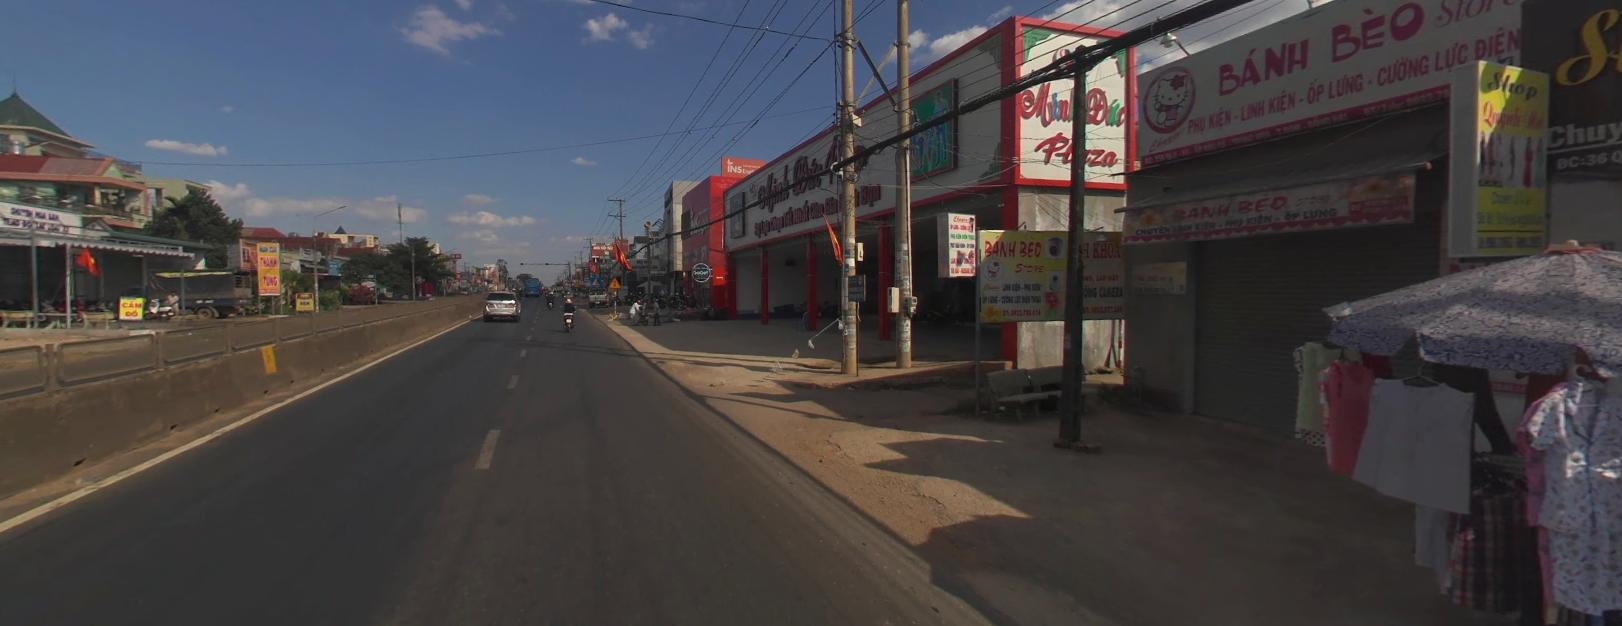Nguy hiem: (608, 274, 621, 288), (591, 277, 598, 284), (573, 279, 580, 286)
